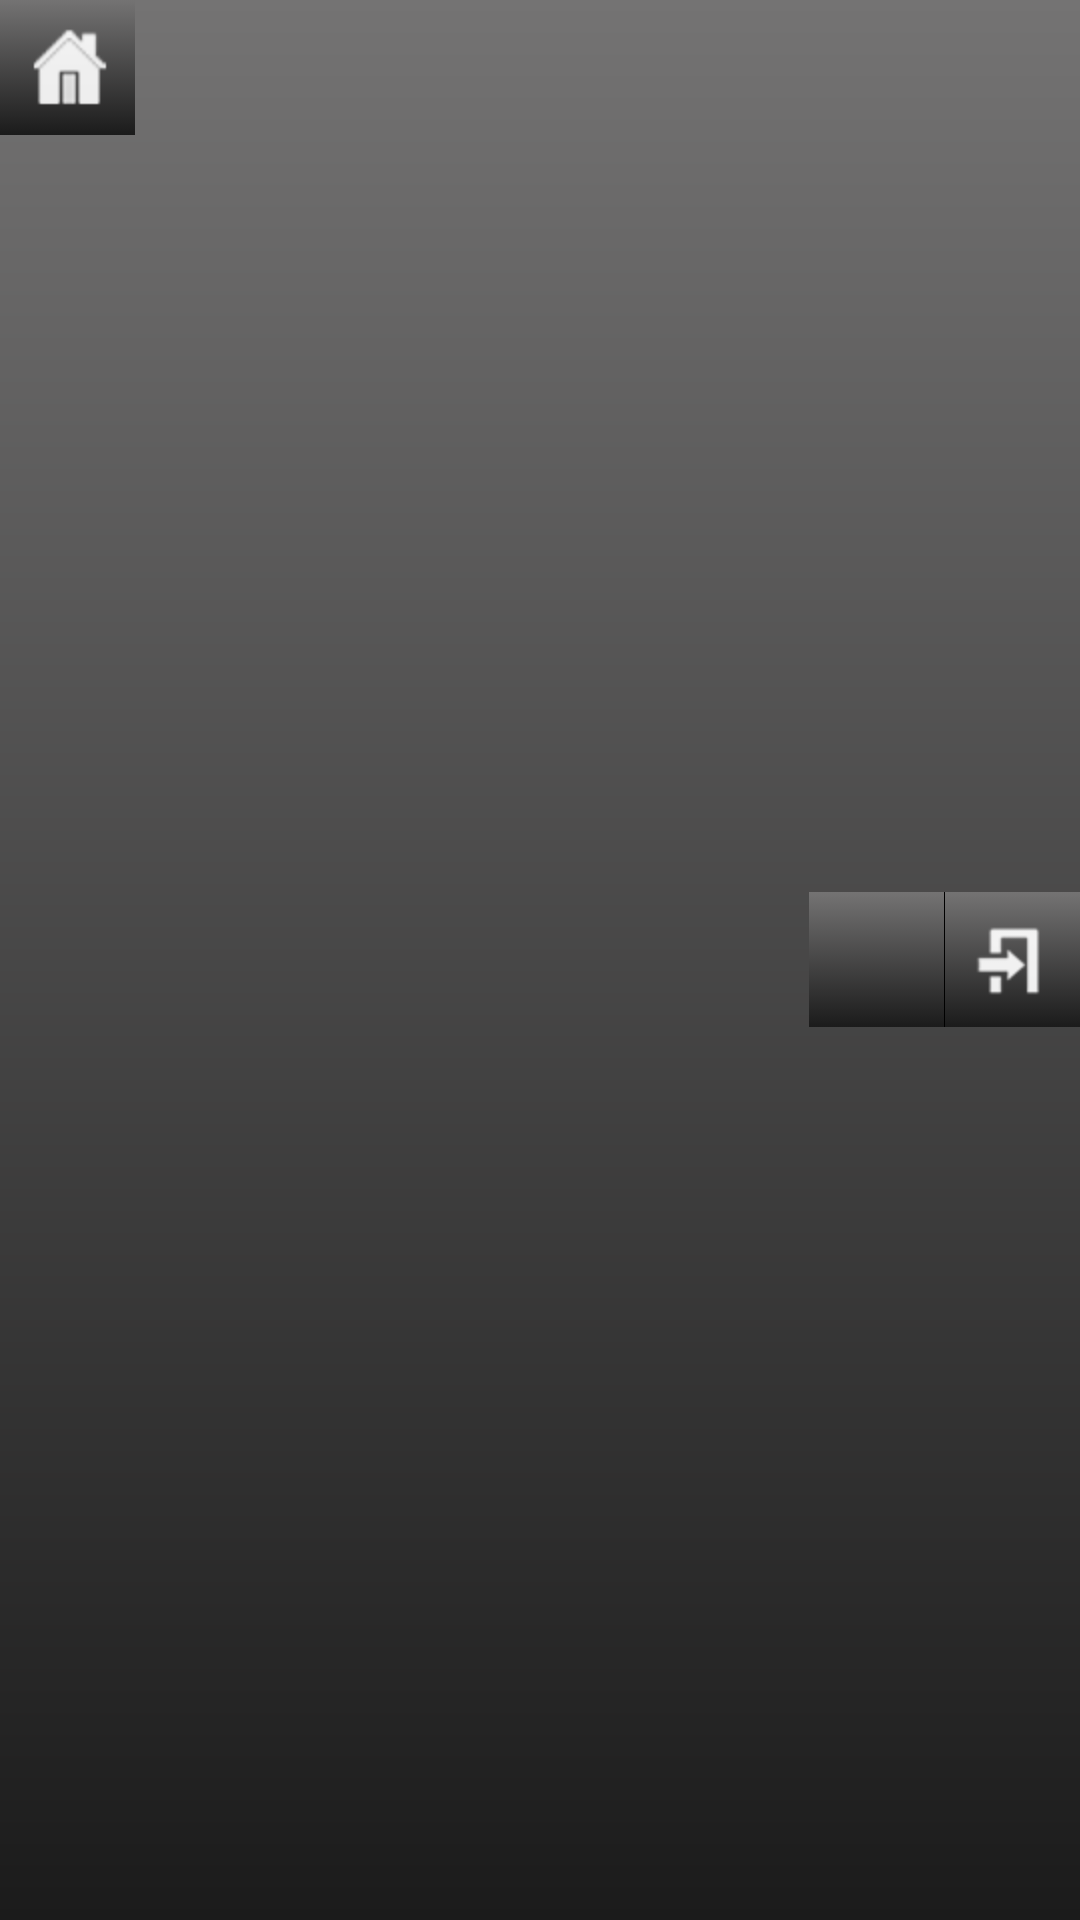

Screen size 1080 x 1920. Icon name, then its center in pixels as (x=x, y=y):
home: (x=67, y=82)
